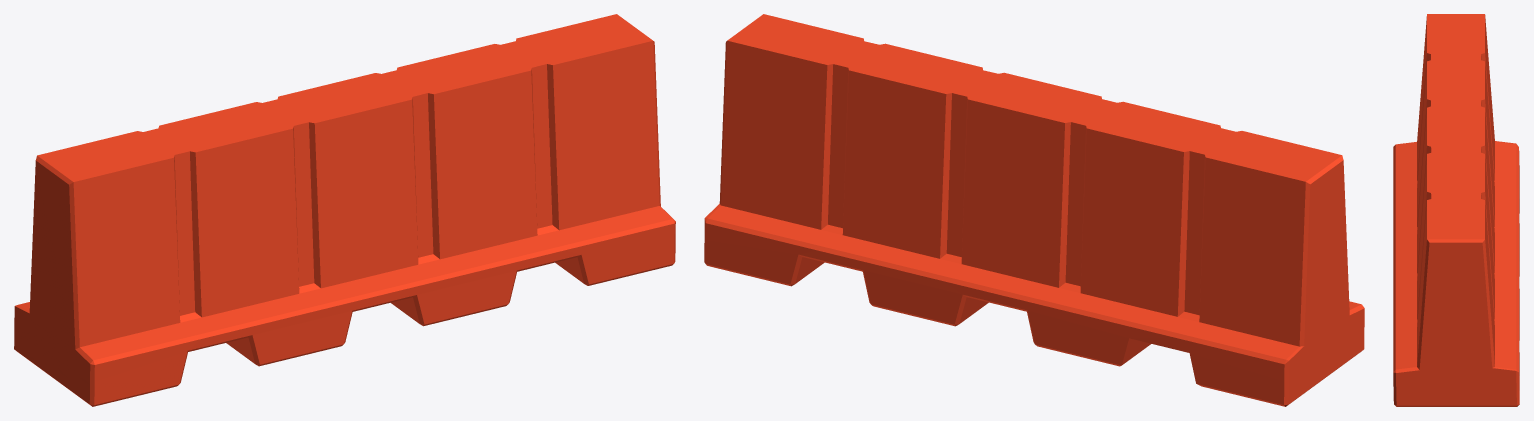
Rendered from SM_Barrier_A_City.fbx.
3 renders of one model, left to right at view 1: azimuth 30°, elevation 25°; view 2: azimuth 150°, elevation 25°; view 3: azimuth 270°, elevation 25°, orthographic. The views are drawn at different scales.
Visible parts, largest first — view 1: SM_Barrier_A_City; view 2: SM_Barrier_A_City; view 3: SM_Barrier_A_City.
Boxes of the visible parts, x1,y1,x2,y2 form: SM_Barrier_A_City: [14, 14, 675, 406]; SM_Barrier_A_City: [704, 14, 1364, 406]; SM_Barrier_A_City: [1393, 14, 1519, 406].
Size of the model in its own units: 1.65 by 0.5692 by 0.3893.
